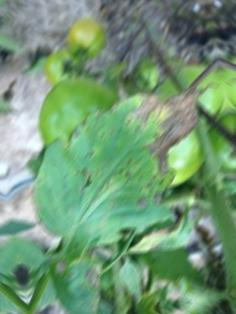Tomato leaf bacterial spot: (15, 82, 236, 259)
